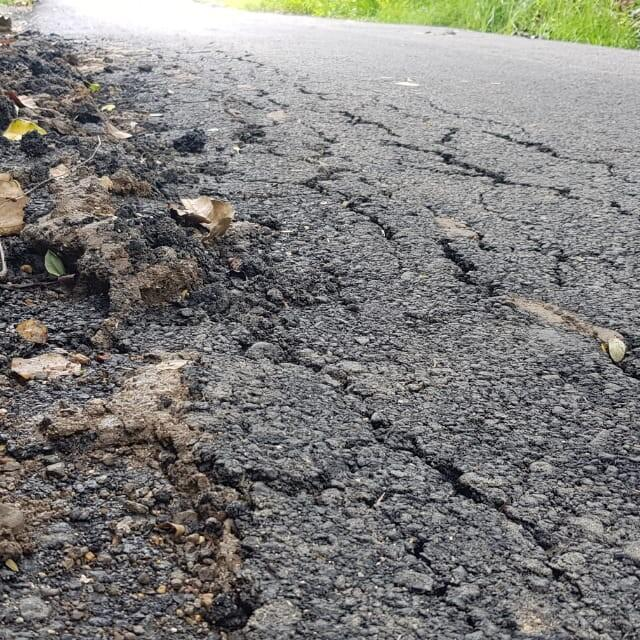retak_memanjang: (219, 70, 640, 300), (300, 400, 640, 640)
